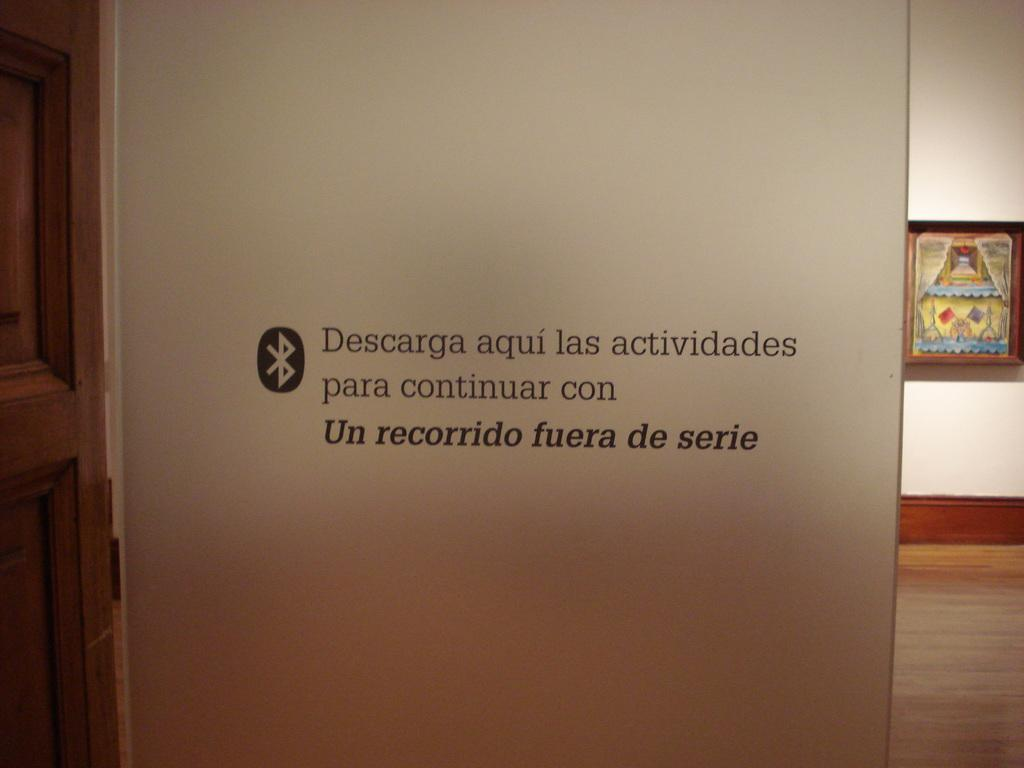door: (11, 74, 104, 760)
